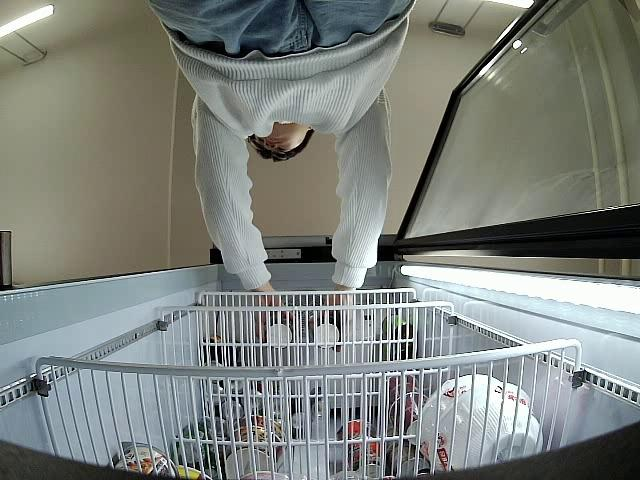00_hand: (256, 299, 293, 343), (321, 296, 353, 324)
08_buldak_S: (264, 309, 297, 354), (310, 316, 342, 351)
